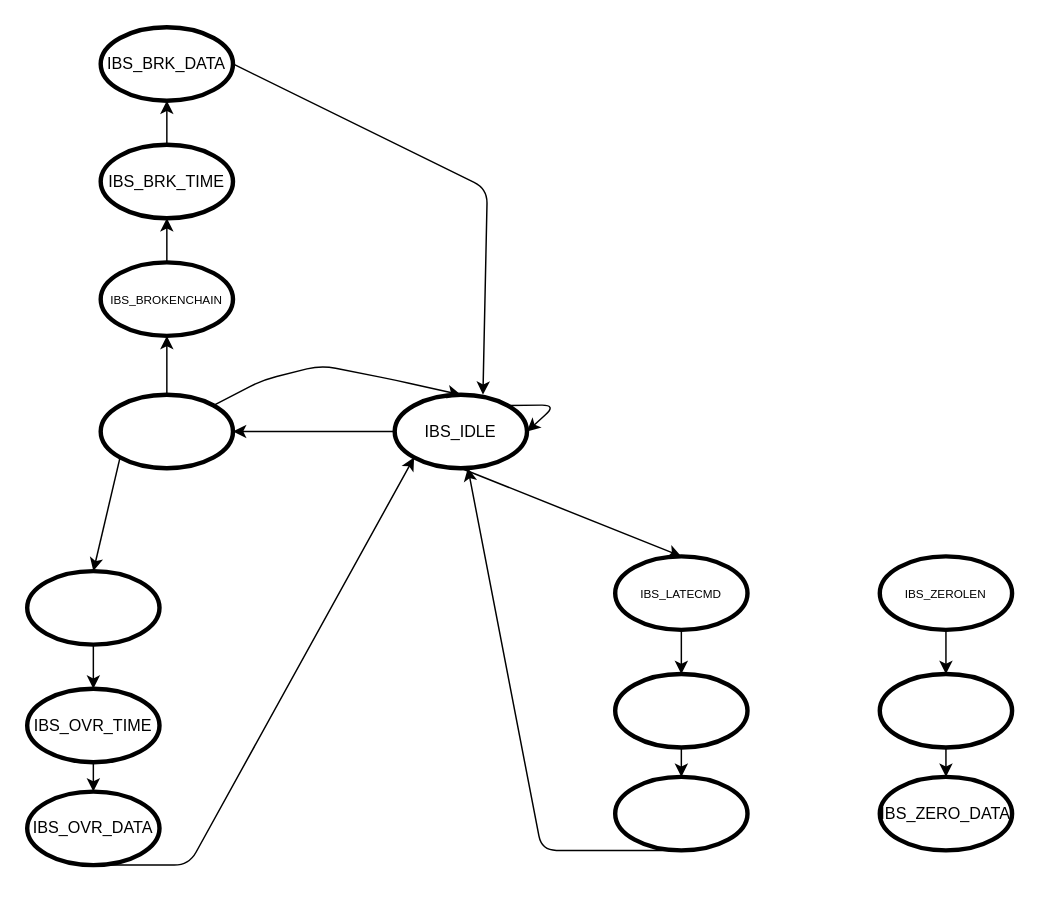
The diagram is 1039 pixels wide and 903 high, and some of its shapes have lost their labels. The box of each missing label's shape, as (x1, y1, x2, y2) in pixels:
IBS_LATE_DATA: (612, 774, 749, 852)
IBS_LATE_TIME: (612, 671, 749, 749)
IBS_OVERRUN: (24, 568, 161, 646)
IBS_RUNNING: (98, 392, 234, 470)
IBS_ZERO_TIME: (877, 671, 1014, 749)
